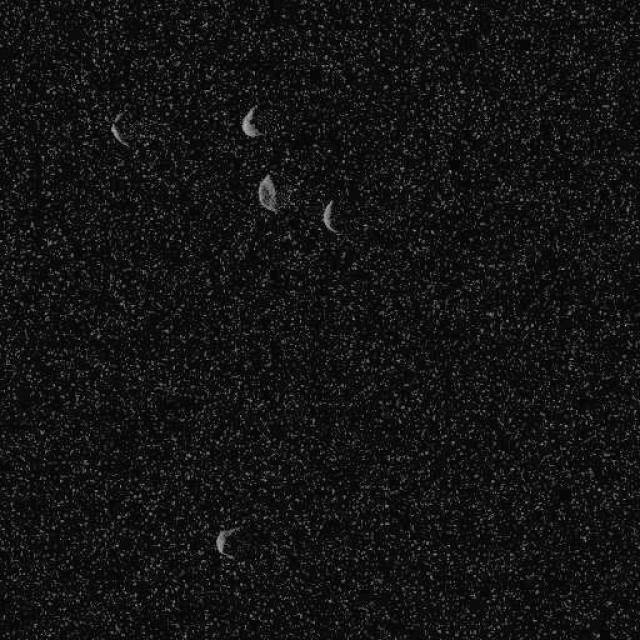D2: (256, 172, 279, 214), (214, 524, 240, 560), (240, 102, 262, 138), (320, 198, 340, 234), (109, 121, 130, 149)
